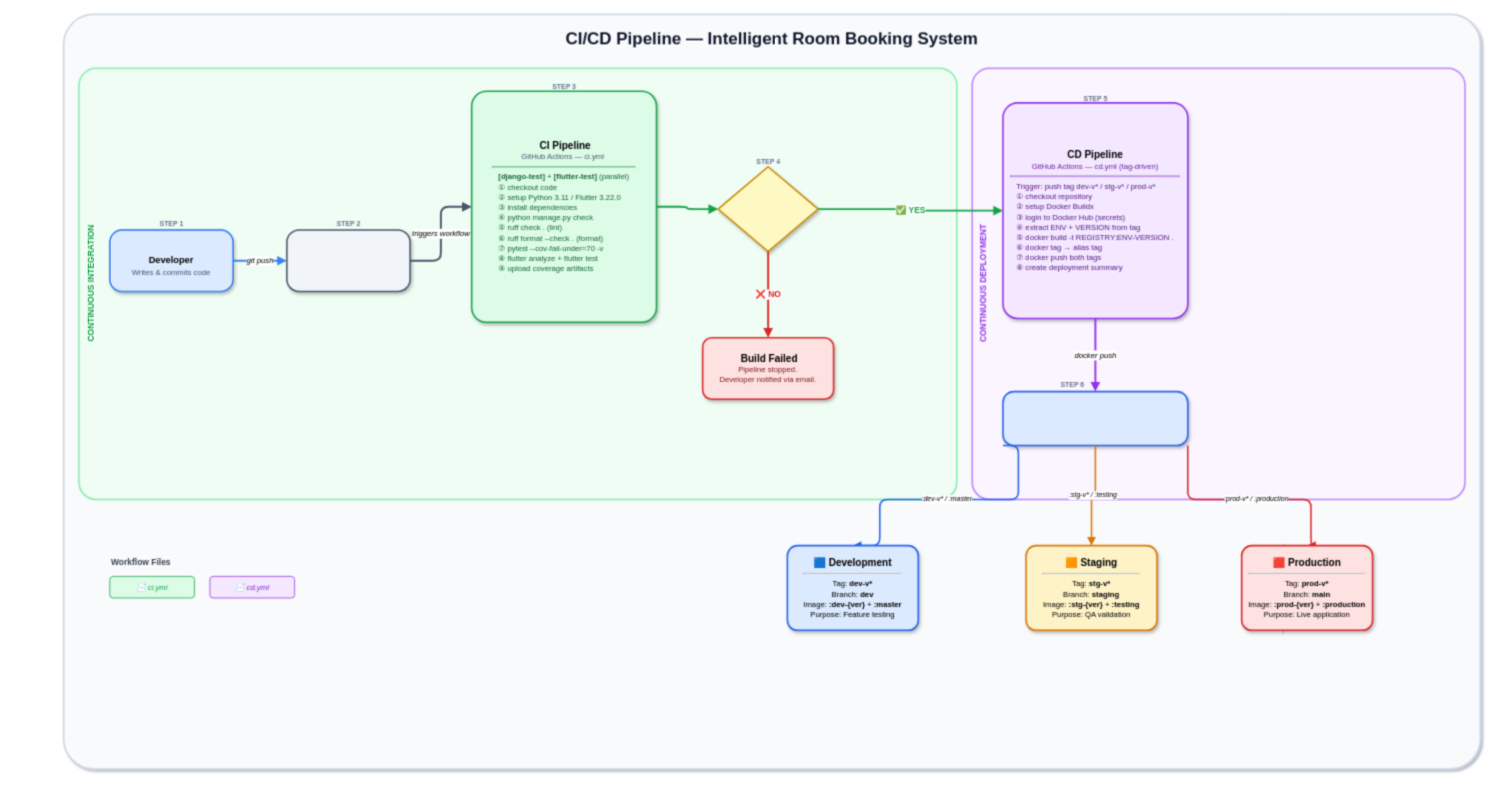
The diagram is 1498 pixels wide and 787 high, and some of its shapes have lost their labels. The shapes that lost their labels are listed below. From the top down, each one's centre as x and y in pixels, then its label:
At [768,209]: "Tests Pass?".
At [349,261]: "GitHub Repository Source code & Actions Trigger: push/PR → main".
At [1096,419]: "Docker Hub username/intelligent_room_booking stores versioned Docker images".
